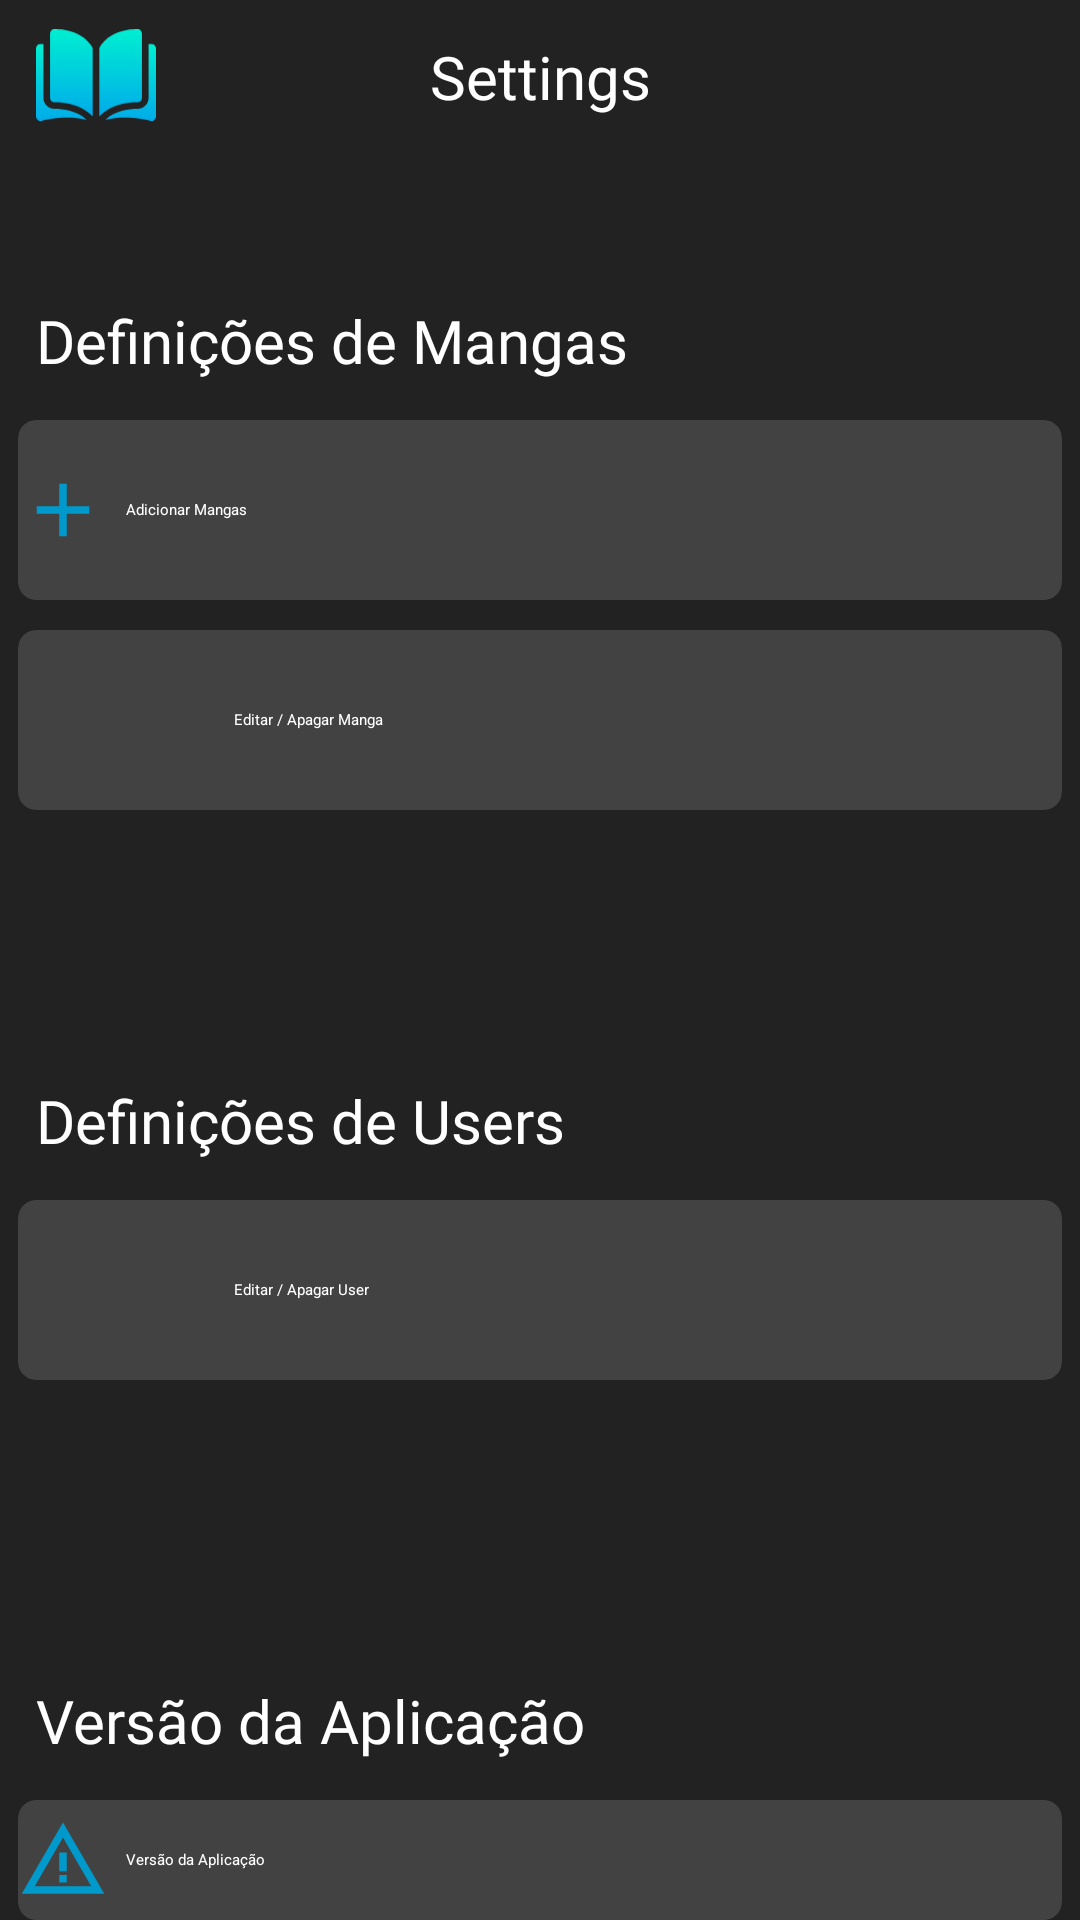

Locate icon controls on the screen. Image size 1080 x 1920, boxes as {"left": x1, "top": y1, "right": x2, "bottom": y2}.
add: {"left": 36, "top": 483, "right": 90, "bottom": 537}
open book: {"left": 36, "top": 29, "right": 156, "bottom": 121}
warning amber: {"left": 22, "top": 1823, "right": 104, "bottom": 1894}
